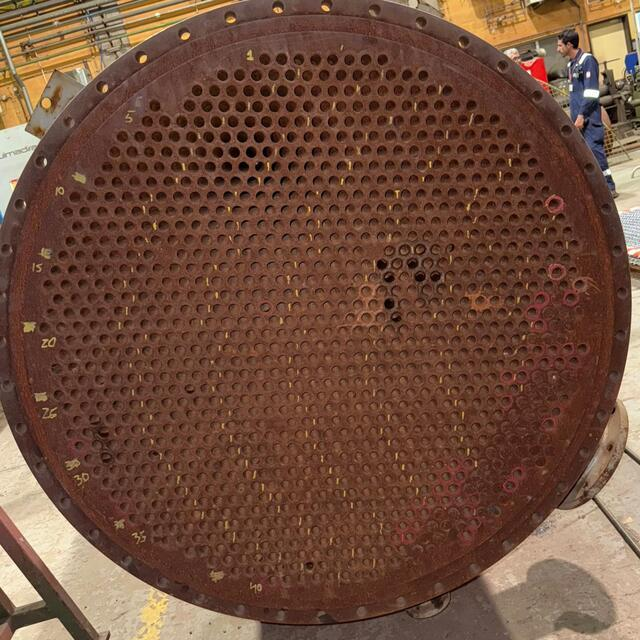Hole: (245, 146, 258, 160), (382, 270, 396, 282), (253, 161, 267, 173), (413, 270, 426, 282), (262, 146, 275, 158), (220, 161, 233, 173), (376, 259, 388, 271), (429, 270, 441, 282), (228, 147, 241, 158), (408, 258, 419, 270), (383, 298, 395, 309), (237, 162, 250, 172), (390, 312, 402, 322)
